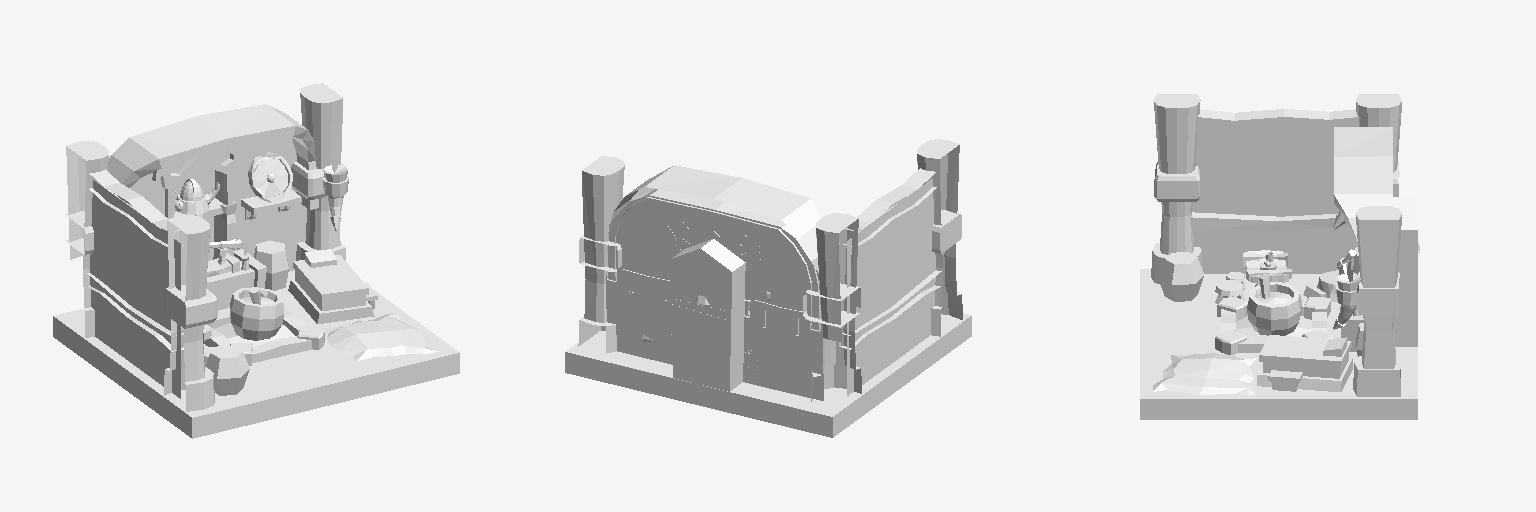
The model's file is Room.obj.
3 views of the same model, side by side, from view 1: azimuth 30°, elevation 25°; view 2: azimuth 150°, elevation 25°; view 3: azimuth 270°, elevation 25° (orthographic).
Visible parts, largest first — view 1: mesh_all1_Mesh; view 2: mesh_all1_Mesh; view 3: mesh_all1_Mesh.
Part boxes in pixels (x1,y1,x2,y2): mesh_all1_Mesh: (53, 83, 459, 438); mesh_all1_Mesh: (565, 139, 971, 437); mesh_all1_Mesh: (1140, 94, 1419, 419).
Size of the model in its own units: 0.7177 by 0.5074 by 0.6522.